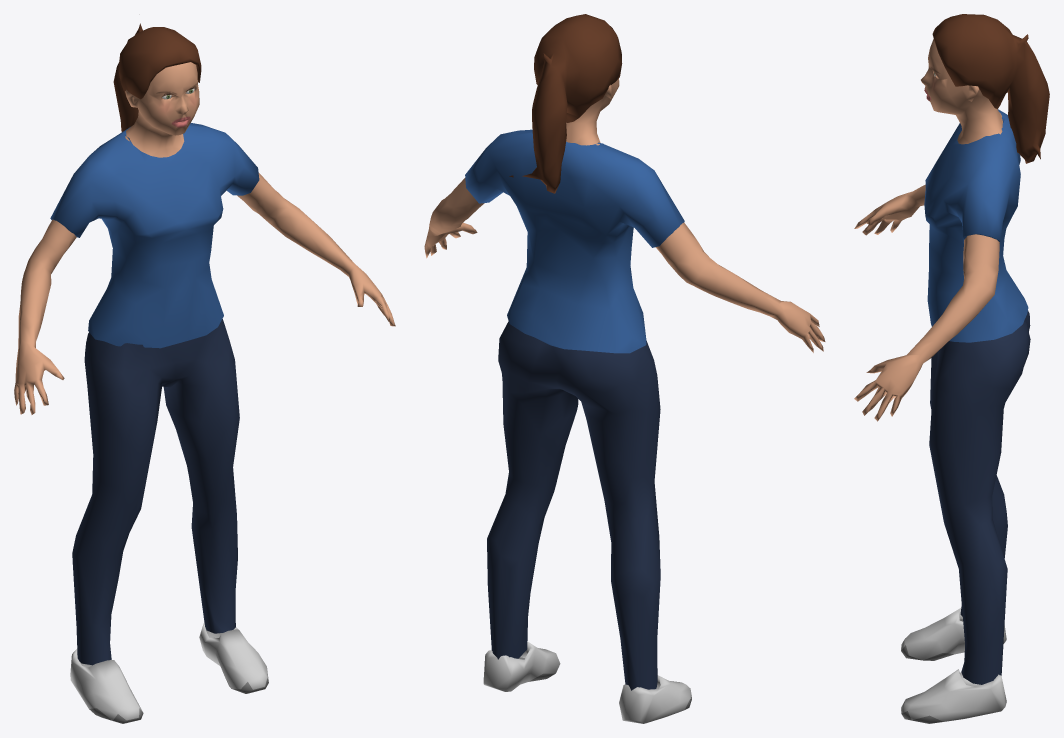
3 renders of one model, left to right at view 1: azimuth 30°, elevation 25°; view 2: azimuth 150°, elevation 25°; view 3: azimuth 270°, elevation 25°, orthographic. The views are drawn at different scales.
Parts seen in each view (by area): view 1: S2_bottom, S2_top, S2_body, S2_shoes, S2_hair; view 2: S2_bottom, S2_top, S2_hair, S2_body, S2_shoes; view 3: S2_bottom, S2_top, S2_body, S2_hair, S2_shoes.
Boxes of the visible parts, bbox=[...] form: S2_bottom: bbox=[72, 319, 239, 665]; S2_top: bbox=[50, 123, 259, 348]; S2_body: bbox=[14, 62, 395, 414]; S2_shoes: bbox=[70, 622, 268, 723]; S2_hair: bbox=[113, 23, 201, 131]; S2_bottom: bbox=[487, 321, 660, 690]; S2_top: bbox=[465, 129, 684, 353]; S2_hair: bbox=[509, 14, 622, 193]; S2_body: bbox=[424, 78, 825, 352]; S2_shoes: bbox=[483, 642, 691, 723]; S2_bottom: bbox=[929, 310, 1030, 684]; S2_top: bbox=[924, 109, 1028, 342]; S2_body: bbox=[854, 39, 1002, 421]; S2_hair: bbox=[932, 14, 1049, 163]; S2_shoes: bbox=[901, 608, 1006, 723].
Bounding box in the file's own units: 1.01 × 1.7 × 0.4497.
Materials: 3 (2 with a texture image).
